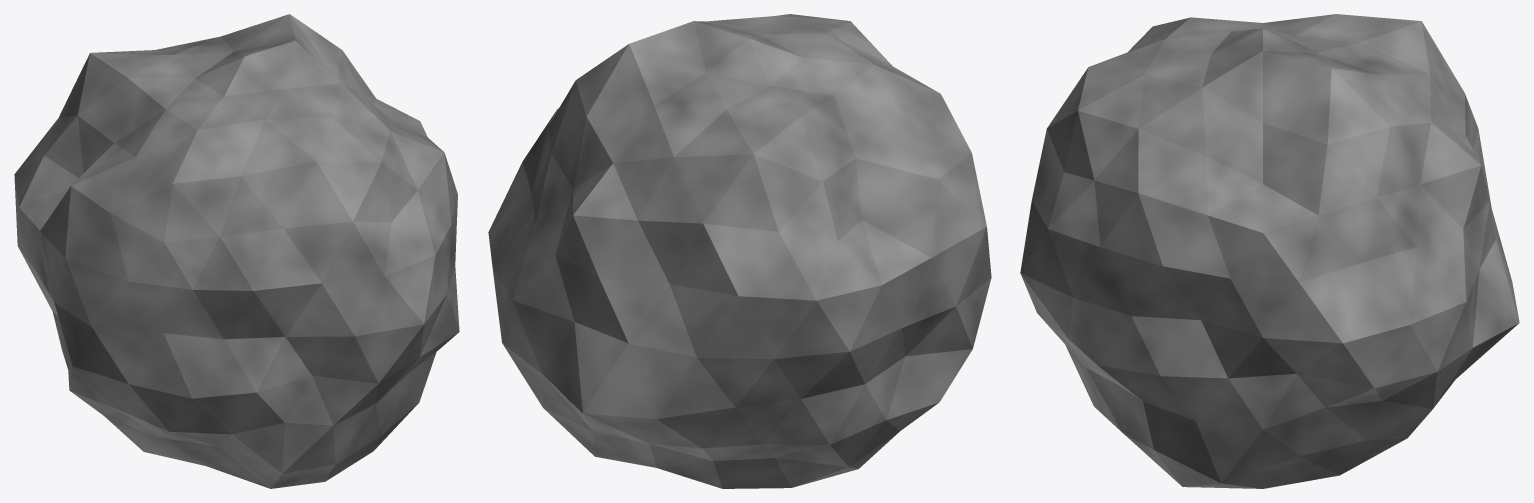
File: asteroid3.glb
3 renders of one model, left to right at view 1: azimuth 30°, elevation 25°; view 2: azimuth 150°, elevation 25°; view 3: azimuth 270°, elevation 25°, orthographic. The views are drawn at different scales.
Visible parts, largest first — view 1: Icosphere.009; view 2: Icosphere.009; view 3: Icosphere.009.
Boxes of the visible parts, box(x1,y1,x2,y2) form: Icosphere.009: box(14, 14, 459, 488); Icosphere.009: box(488, 14, 991, 488); Icosphere.009: box(1020, 14, 1519, 488).
Bounding box in the file's own units: 7.92 × 7.8 × 8.09.
1 material, 1 textured.
